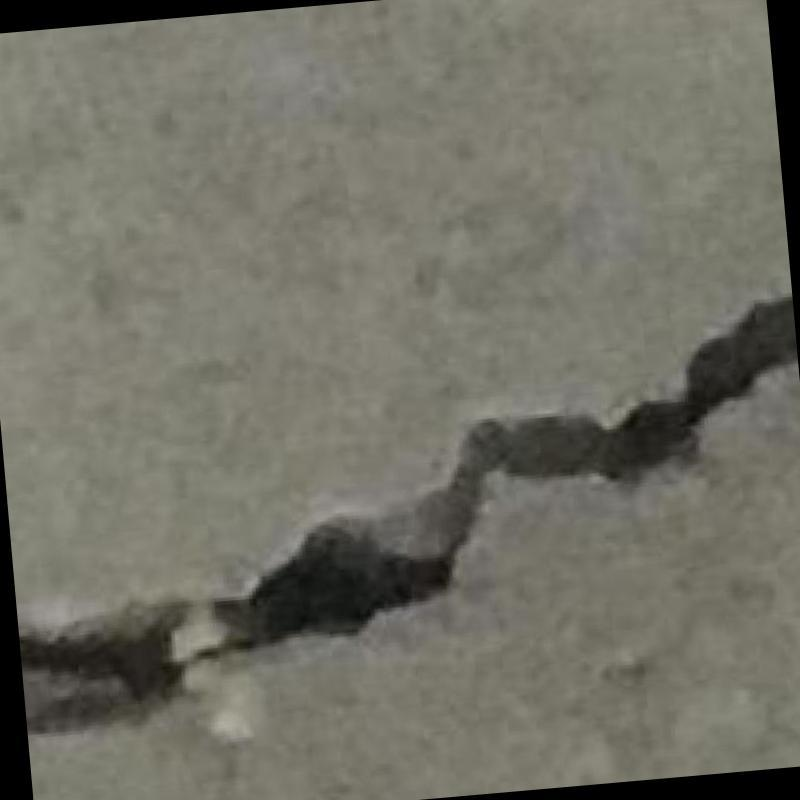pothole: (19, 296, 797, 697)
